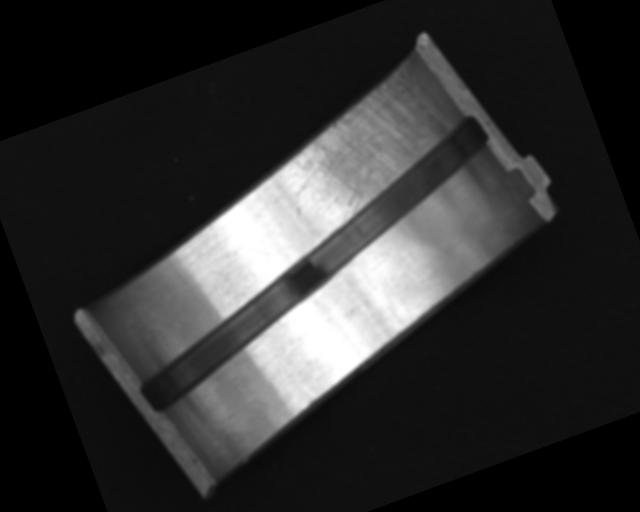gap: (90, 111, 538, 416)
scratch: (267, 59, 465, 237)
